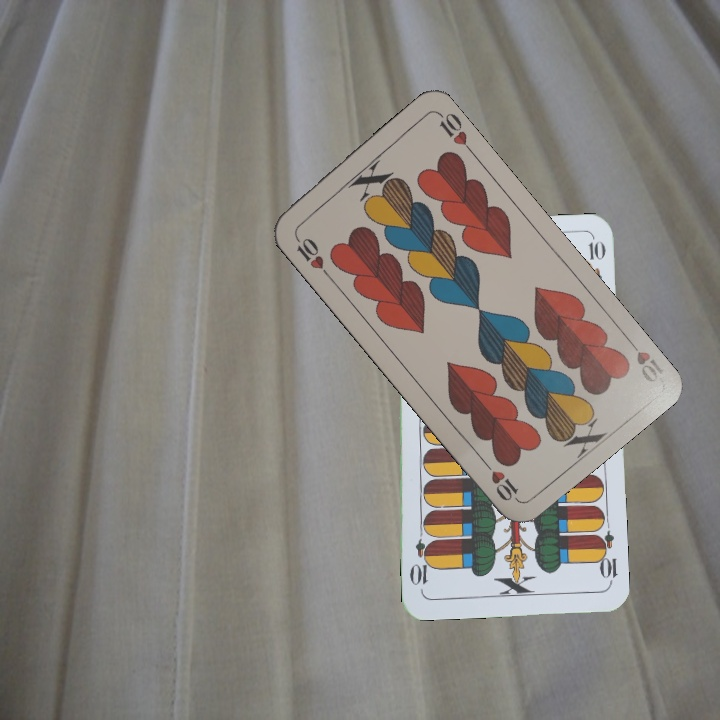E10: (592, 528, 621, 587)
H10: (621, 332, 666, 385), (290, 230, 333, 280)
